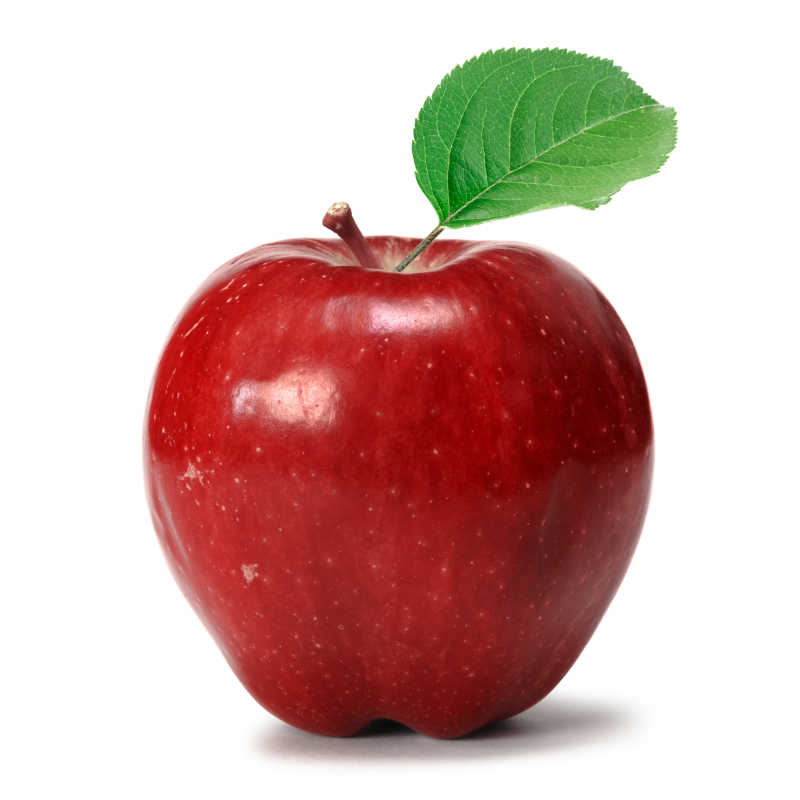apple: (131, 235, 660, 744)
